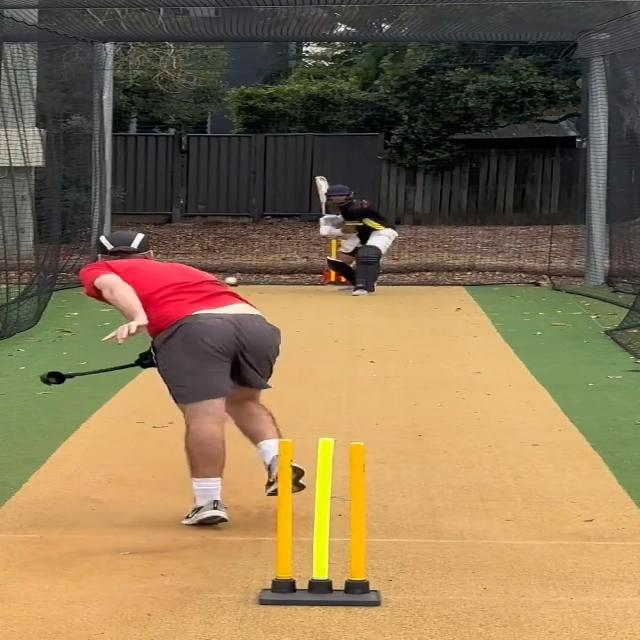ball: (224, 276, 238, 286)
stump: (259, 438, 383, 606)
